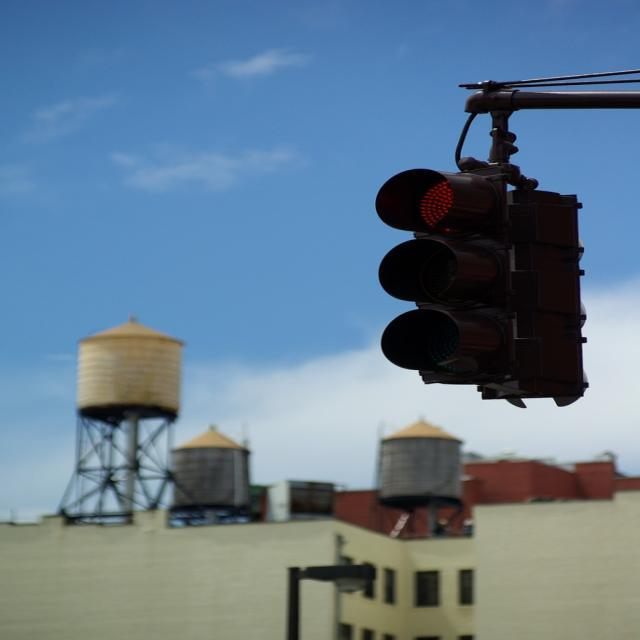traffic light: (376, 170, 505, 382)
